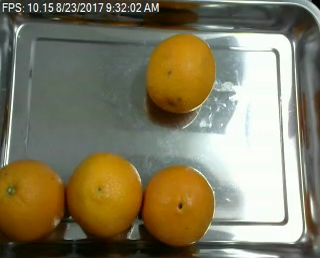Orange: (67, 152, 143, 236), (142, 165, 215, 245), (145, 34, 216, 113), (0, 160, 63, 241)
